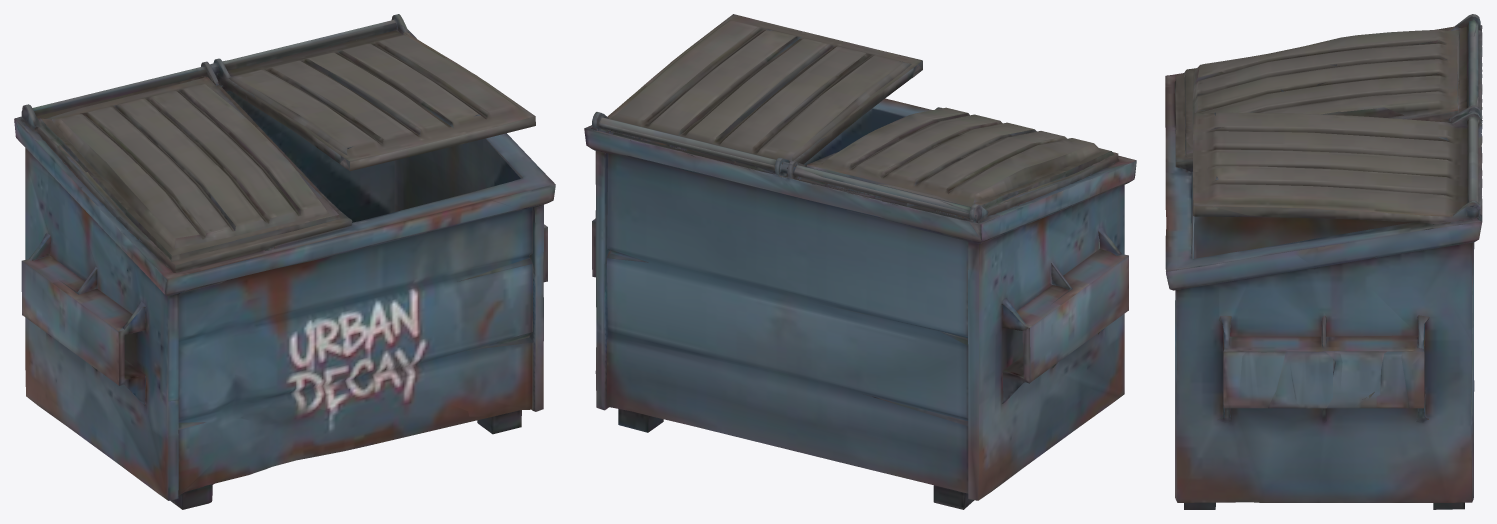
Rendered from prop-dumpster.glb.
3 renders of one model, left to right at view 1: azimuth 30°, elevation 25°; view 2: azimuth 150°, elevation 25°; view 3: azimuth 270°, elevation 25°, orthographic. The views are drawn at different scales.
Parts seen in each view (by area): view 1: Mesh_0; view 2: Mesh_0; view 3: Mesh_0.
Part boxes in pixels (box(x1,y1,x2,y2)): Mesh_0: box(14, 14, 555, 509); Mesh_0: box(584, 14, 1136, 509); Mesh_0: box(1165, 14, 1482, 509).
Bounding box in the file's own units: 1.91 × 1.31 × 1.18.
Materials: 1 (1 with a texture image).
